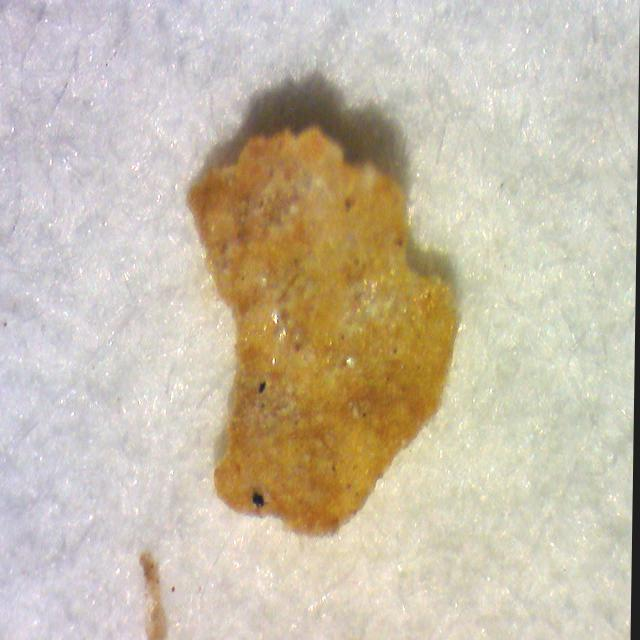microplastic: (167, 105, 488, 554)
